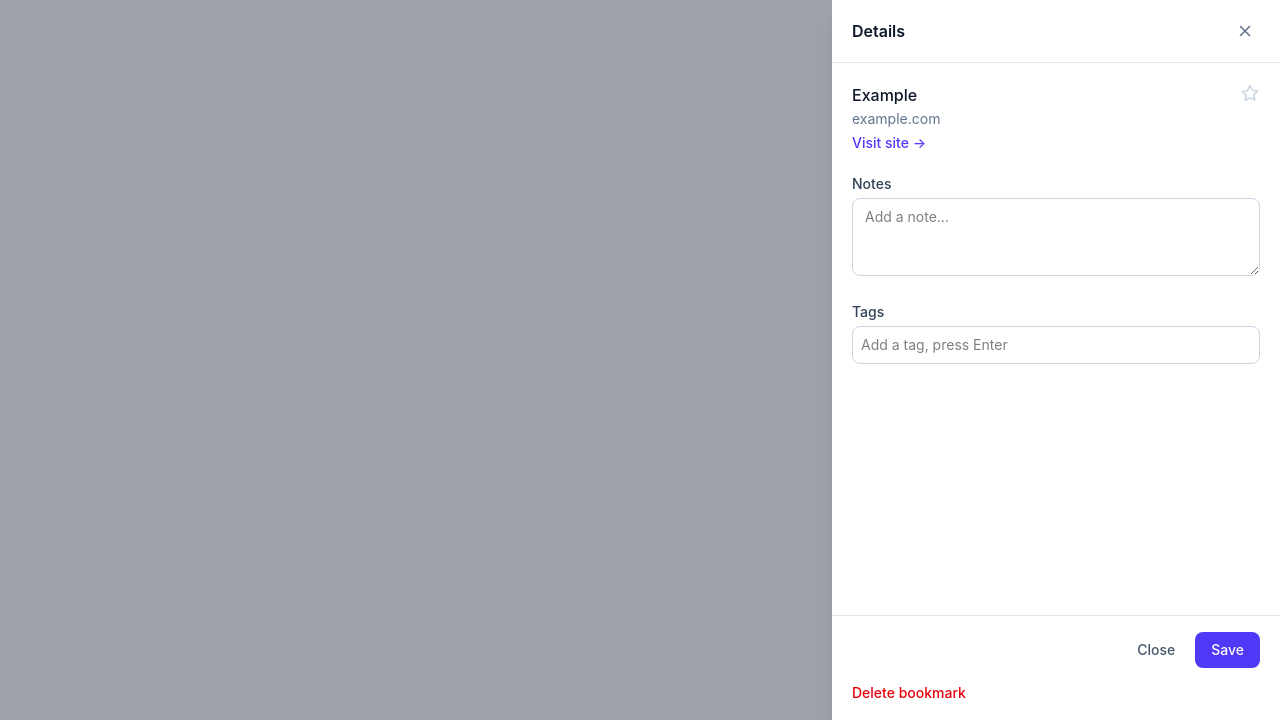
delete asks for confirmation first
Expected: the text "delete this bookmark?" is not shown
Click the button "Delete bookmark" at (909, 693), box left=852, top=683, right=966, bottom=703
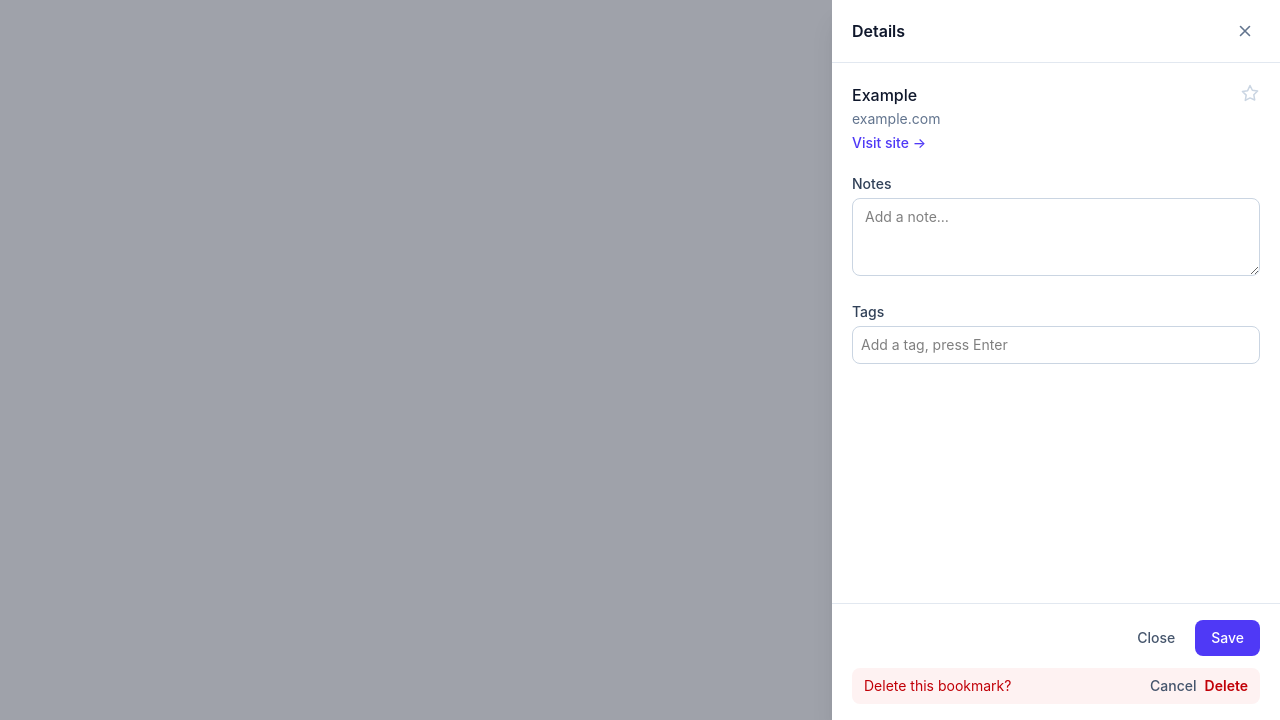
Result: the text "Delete this bookmark?" is shown at left=864, top=676, right=1011, bottom=696
